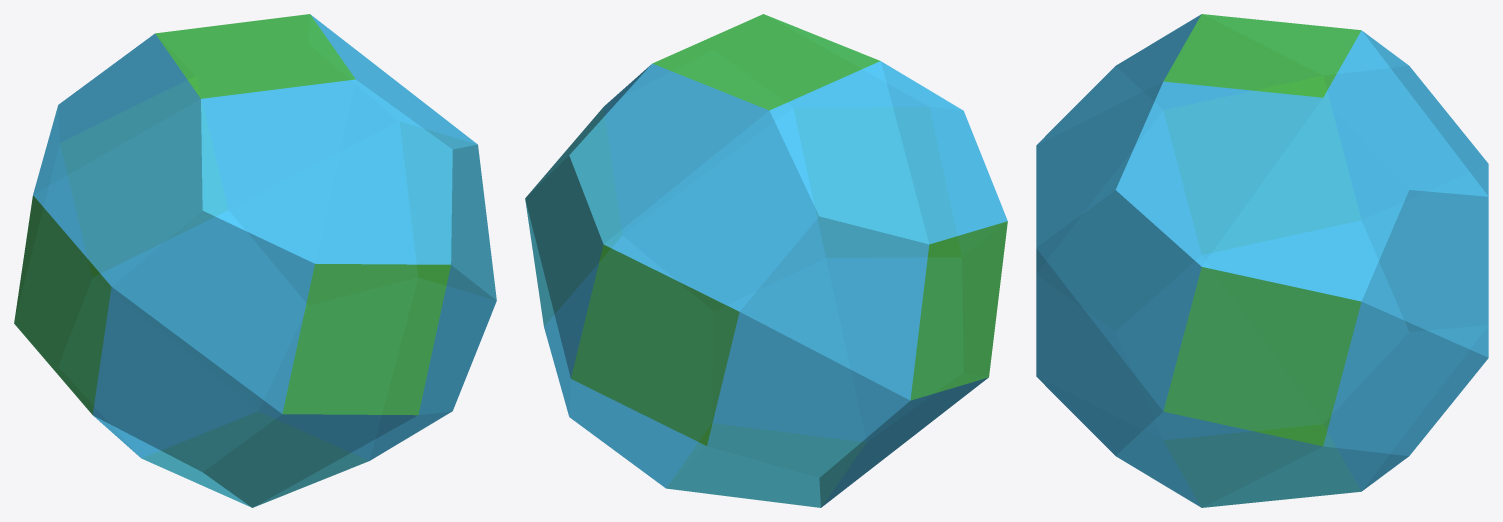
Rendered from BiscribedPropelloCube.obj.
3 renders of one model, left to right at view 1: azimuth 30°, elevation 25°; view 2: azimuth 150°, elevation 25°; view 3: azimuth 270°, elevation 25°, orthographic.
Bounding box in the file's own units: 2 × 2 × 2.
